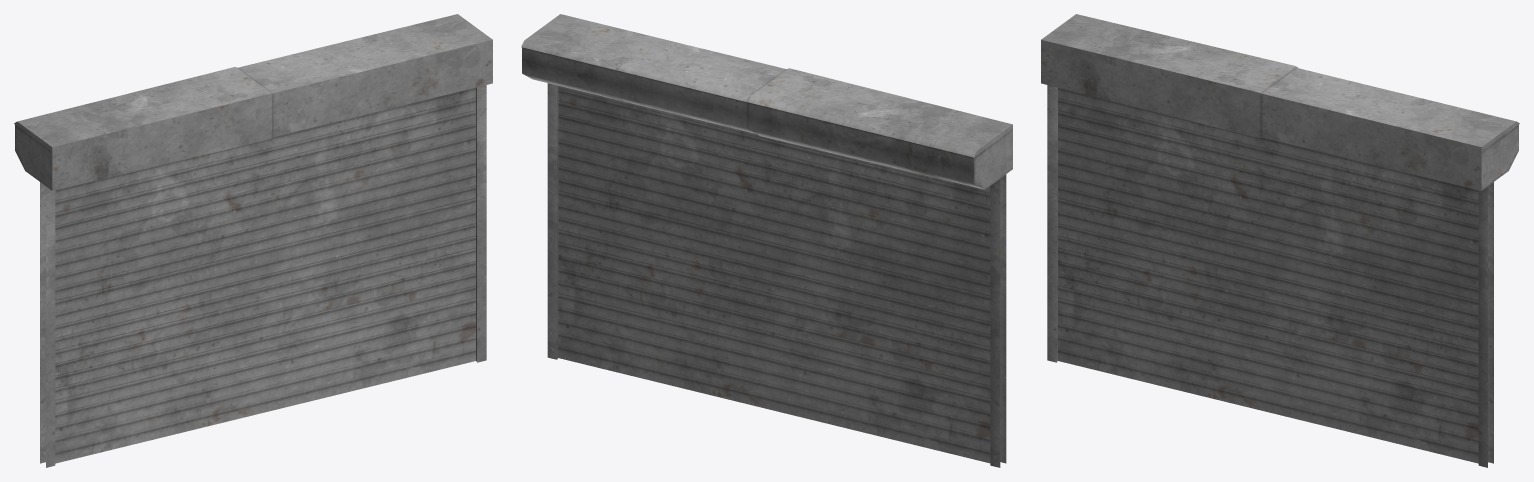
File: RollupDoor_Closed.fbx
3 views of the same model, side by side, from view 1: azimuth 30°, elevation 25°; view 2: azimuth 150°, elevation 25°; view 3: azimuth 330°, elevation 25° (orthographic). The views are drawn at different scales.
Visible parts, largest first — view 1: RollupDoor_Closed; view 2: RollupDoor_Closed; view 3: RollupDoor_Closed.
Boxes of the visible parts, x1=… form: RollupDoor_Closed: x1=14, y1=14, x2=492, y2=467; RollupDoor_Closed: x1=521, y1=14, x2=1012, y2=467; RollupDoor_Closed: x1=1041, y1=14, x2=1519, y2=467.
Bounding box in the file's own units: 450 × 319 × 70.15.
